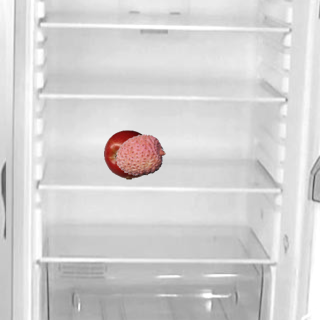Apple Braeburn: (103, 129, 153, 179)
Lychee: (115, 129, 165, 179)
